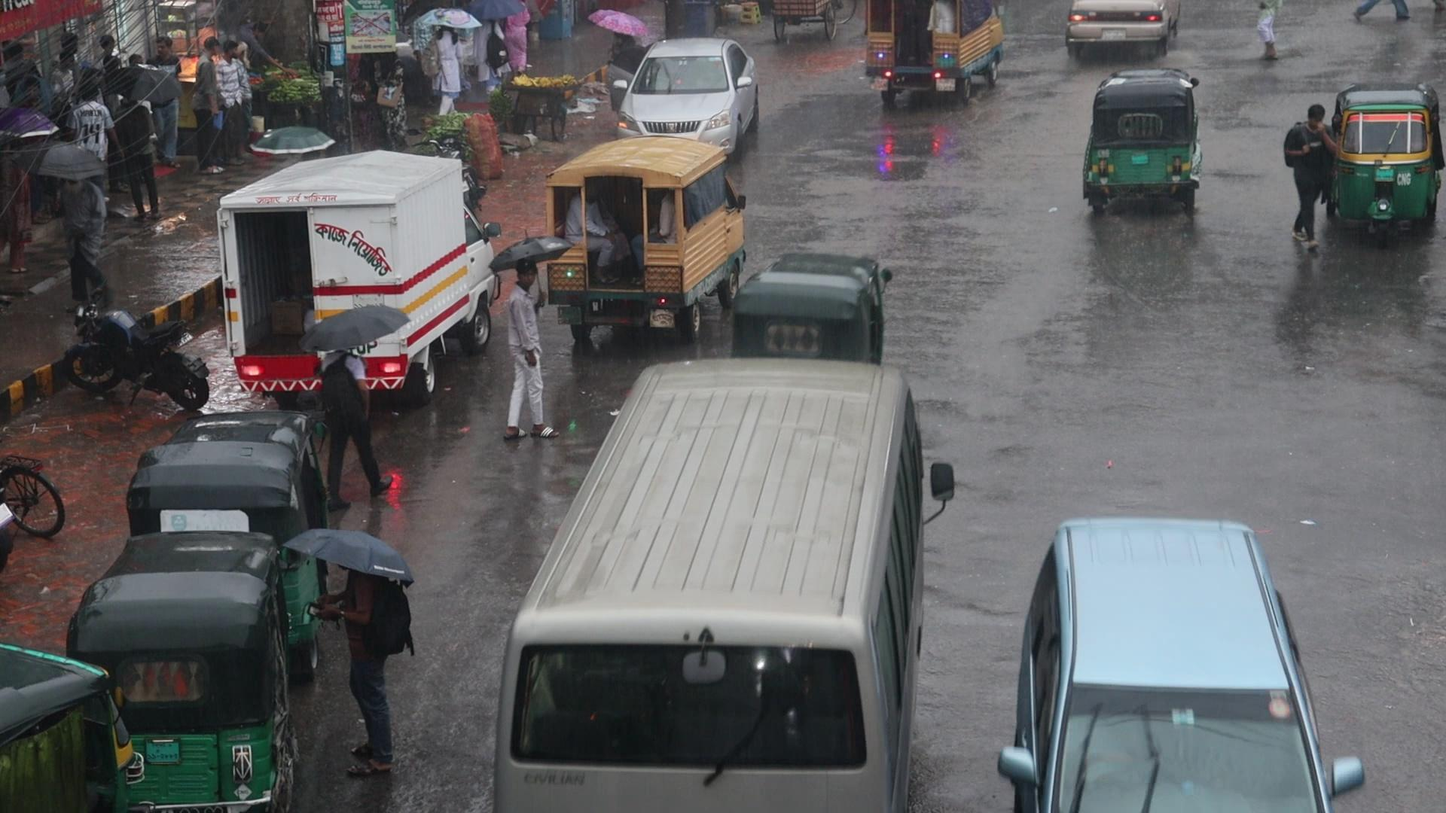Bus: (485, 352, 927, 813)
Car: (1003, 508, 1343, 813), (619, 29, 762, 155)
Truck: (533, 134, 744, 353), (851, 0, 1021, 110)
